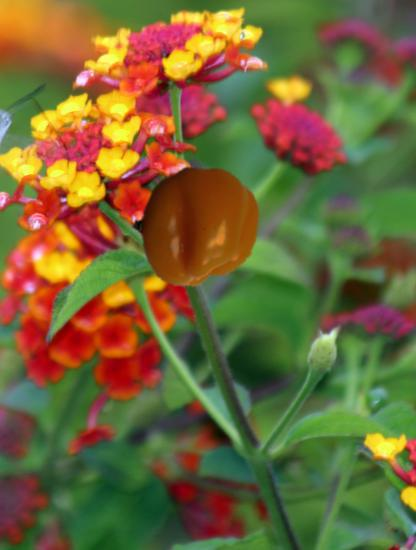Pepper: (132, 162, 264, 294)
